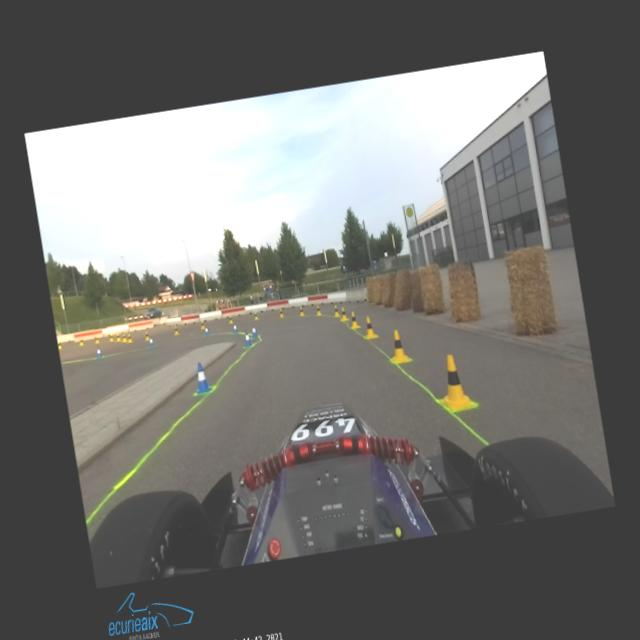blue_cone: (192, 361, 212, 393), (243, 329, 252, 346), (250, 326, 258, 338), (232, 322, 238, 333), (96, 347, 102, 358), (204, 327, 210, 335), (149, 338, 154, 346)
yellow_cone: (435, 352, 475, 411), (388, 328, 410, 364), (363, 316, 377, 339), (349, 310, 359, 328), (339, 307, 348, 321), (333, 305, 340, 317), (173, 325, 180, 335), (316, 305, 322, 316), (144, 332, 150, 342), (279, 308, 284, 318), (299, 306, 304, 316), (127, 334, 132, 344), (200, 321, 206, 329), (122, 333, 127, 342), (228, 316, 234, 323), (116, 334, 121, 342), (95, 336, 100, 344), (109, 334, 114, 342), (79, 338, 84, 346), (254, 312, 258, 320), (58, 342, 61, 348)
